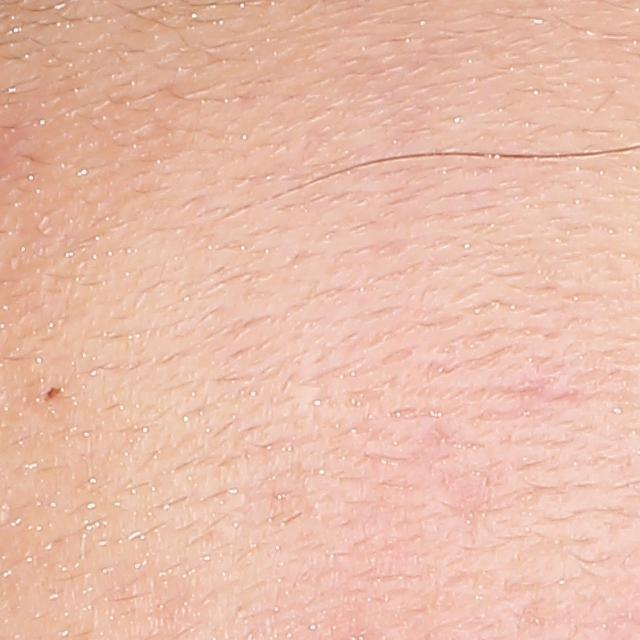nevus: (43, 385, 66, 402)
